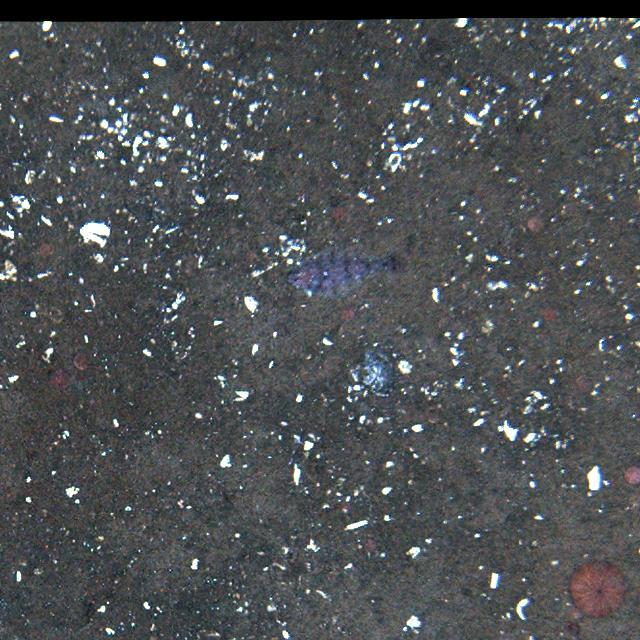flatfish: (285, 240, 415, 296)
